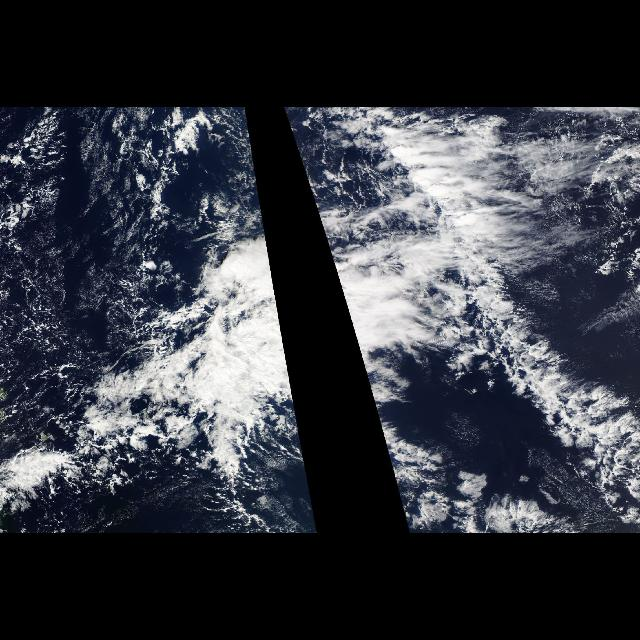Fish: (6, 231, 316, 519), (403, 169, 639, 527)
Gravel: (14, 264, 182, 493)
